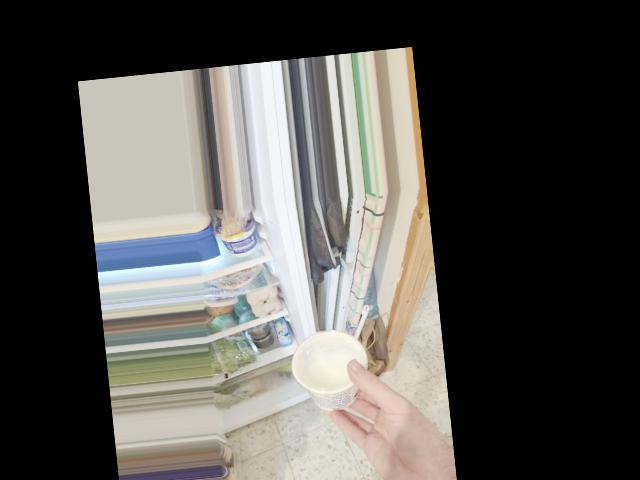cotage: (299, 327, 376, 418)
